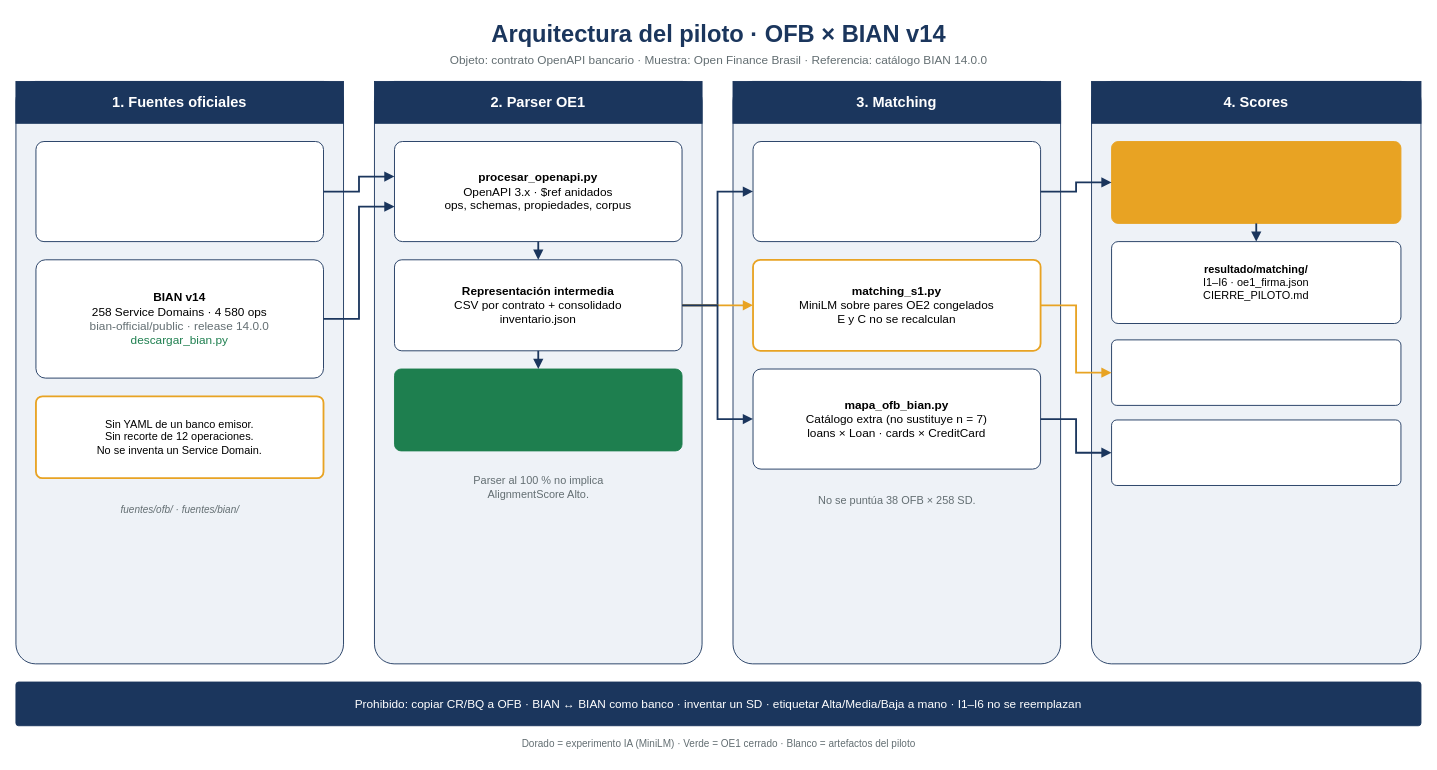
The diagram is 1437 pixels wide and 770 high, and some of its shapes have lost their labels. Each missing label, with the centre of its shape:
"AlignmentScore = (S + E + C) / 3 Alta ≥ 0,80 · Media · Baja · Nula < 0,40" goes at point 1256,182.
"matching_v0.py I1–I6 oficiales (n = 7) S léxico · E greedy · C CR/BQ" goes at point 896,191.
"OE1 firmado 296 / 296 YAML ops y schemas = 1,00" goes at point 538,409.
"Open Finance Brasil 38 YAML · 160 operaciones accounts, payments, loans, cards…" goes at point 179,191.
"resultado/matching/catalogo/ MAPA.md · credit-cards Baja 0,46" goes at point 1256,452.
"resultado/matching_s1/ S MiniLM de I1–I6" goes at point 1256,372.
